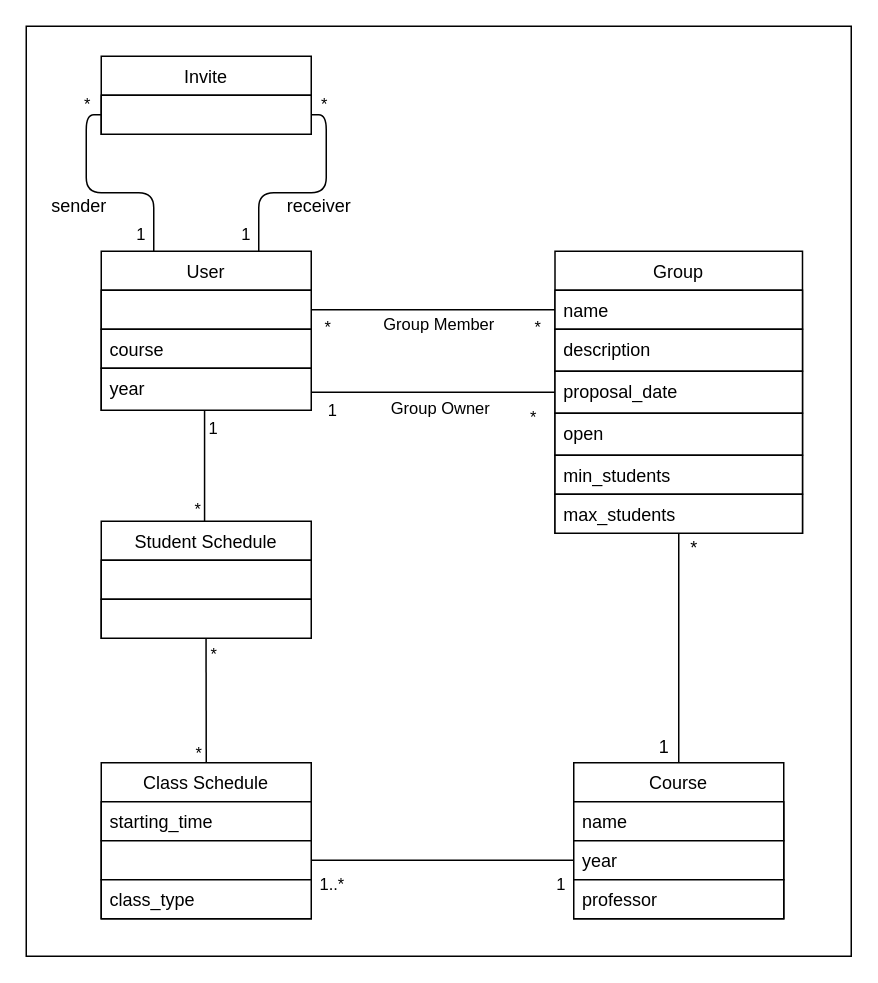
The diagram is 878 pixels wide and 983 high, and some of its shapes have lost their labels. The centre of each missing label's shape, as x and y in pixels:
email: the point at 205,309
ending_day: the point at 205,618
ending_time: the point at 205,859
invitation_date: the point at 205,114
starting_day: the point at 205,579
